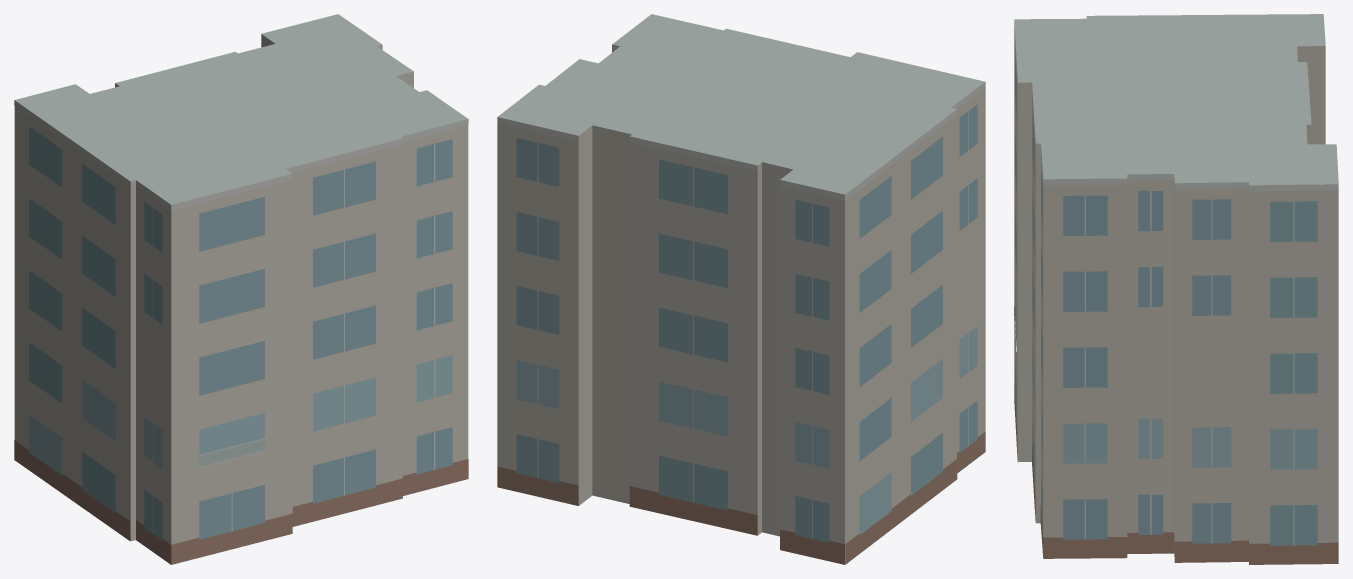
The model's file is survey-upis-32744663.glb.
3 renders of one model, left to right at view 1: azimuth 30°, elevation 25°; view 2: azimuth 150°, elevation 25°; view 3: azimuth 270°, elevation 25°, orthographic. The views are drawn at different scales.
Visible parts, largest first — view 1: survey-upis-32744663.tmp; view 2: survey-upis-32744663.tmp; view 3: survey-upis-32744663.tmp.
Part boxes in pixels (x1,y1,x2,y2): survey-upis-32744663.tmp: [14, 14, 468, 564]; survey-upis-32744663.tmp: [497, 14, 985, 564]; survey-upis-32744663.tmp: [1014, 14, 1338, 564].
Bounding box in the file's own units: 14.82 × 15.3 × 11.87.
